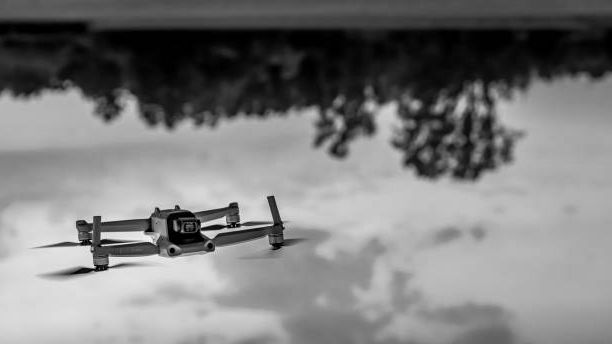Drone: (22, 192, 310, 279)
